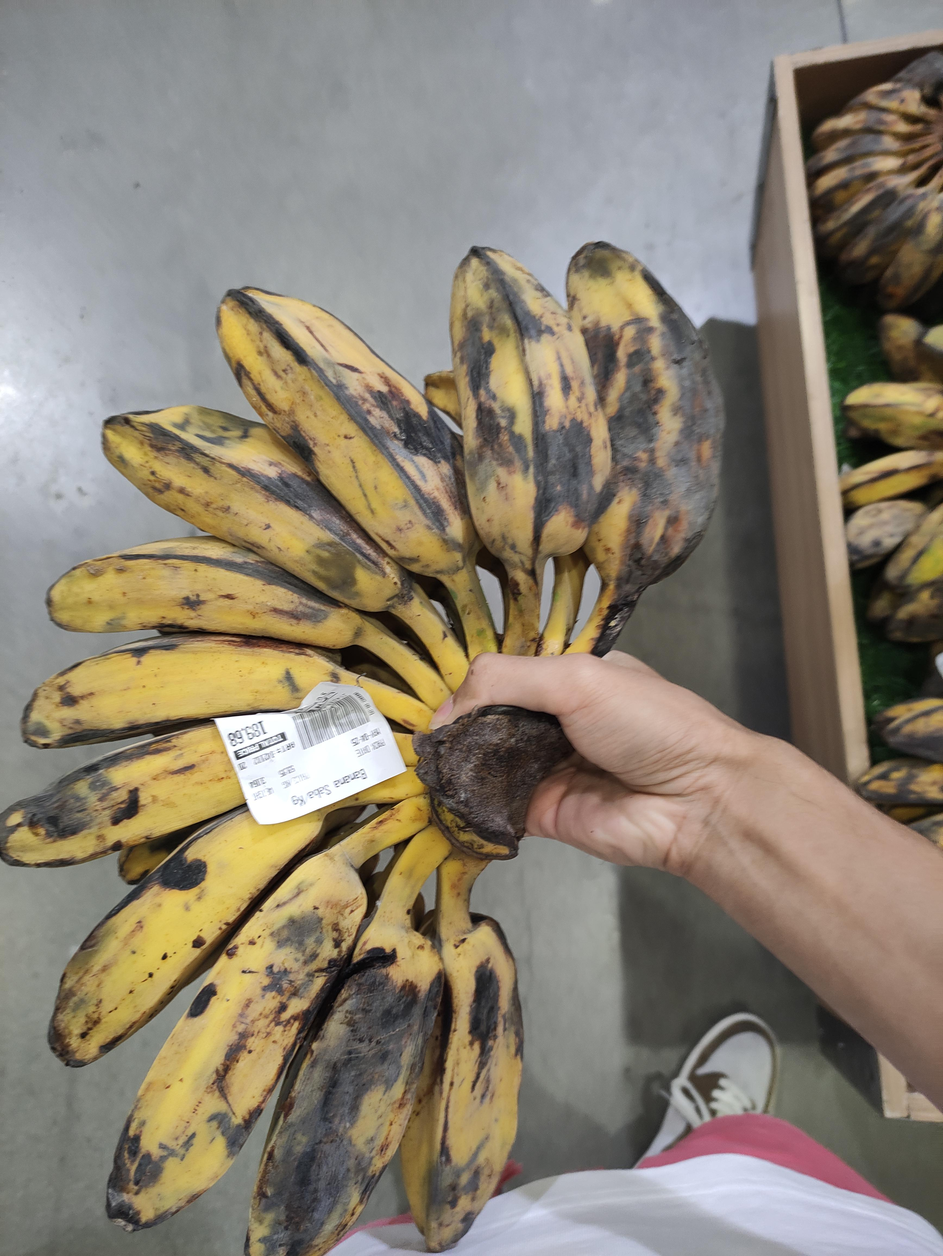ripe: (0, 243, 721, 1256), (806, 49, 943, 310), (841, 314, 943, 642), (856, 697, 943, 843)
